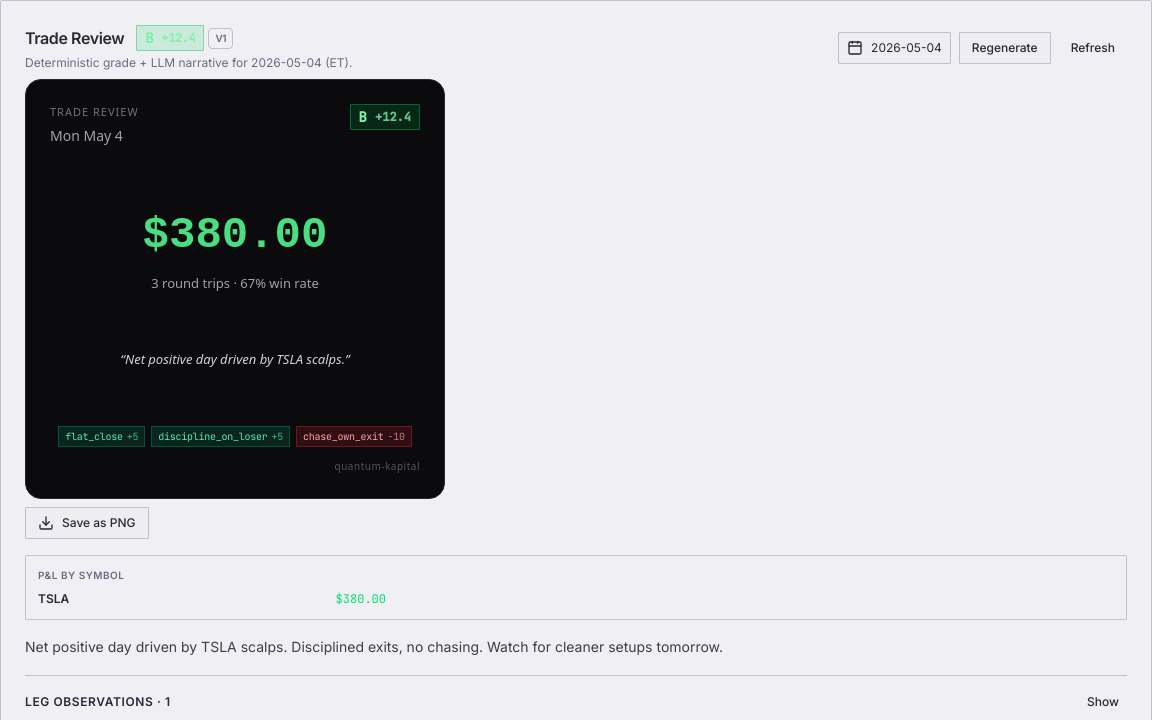
Test case: TradeReviewCard › surfaces a regenerate error without clobbering the existing review
What coordinates should you click on to do the following:
click the button "Regenerate"
I would click on:
 (1005, 48)
Its box is [959, 32, 1051, 64].
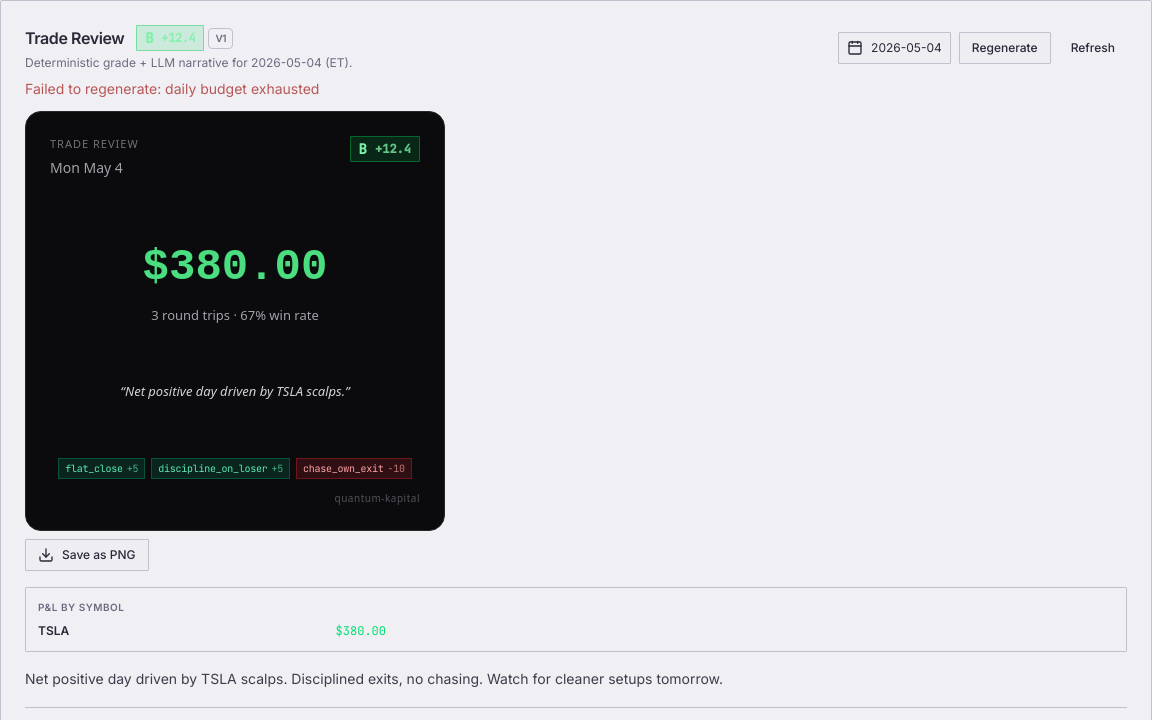
Expected: the text "Disciplined exits, no chasing" is shown, [25, 670, 723, 687]
Expected: the text "Failed to regenerate: daily budget exhausted" is shown, [25, 80, 319, 97]
